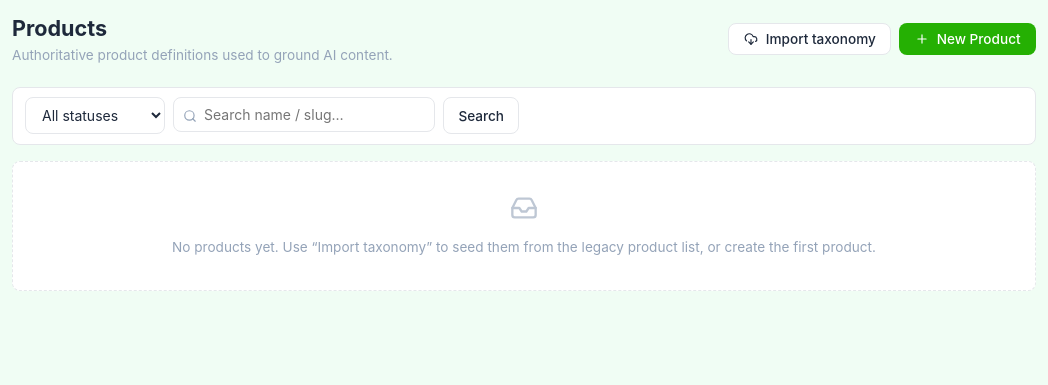
it: ProductListPage › imports the taxonomy, reports the summary and reloads the list
The image size is (1048, 385).
Click the button "Import taxonomy" at (810, 39), box [728,23,891,56]
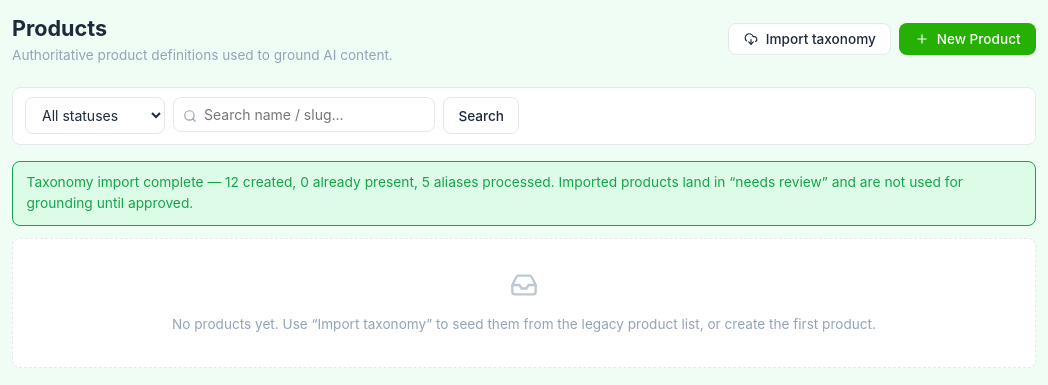
Expected: the text "12 created" is shown, [27,174,963,211]
